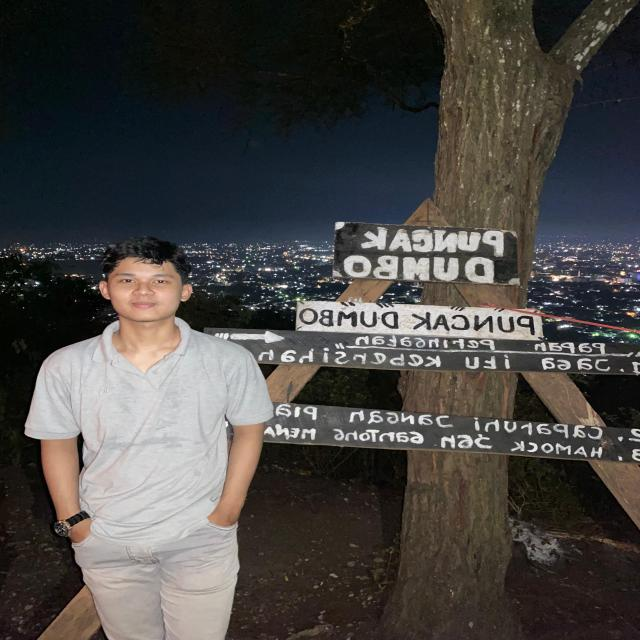nohelmet: (92, 232, 195, 334)
